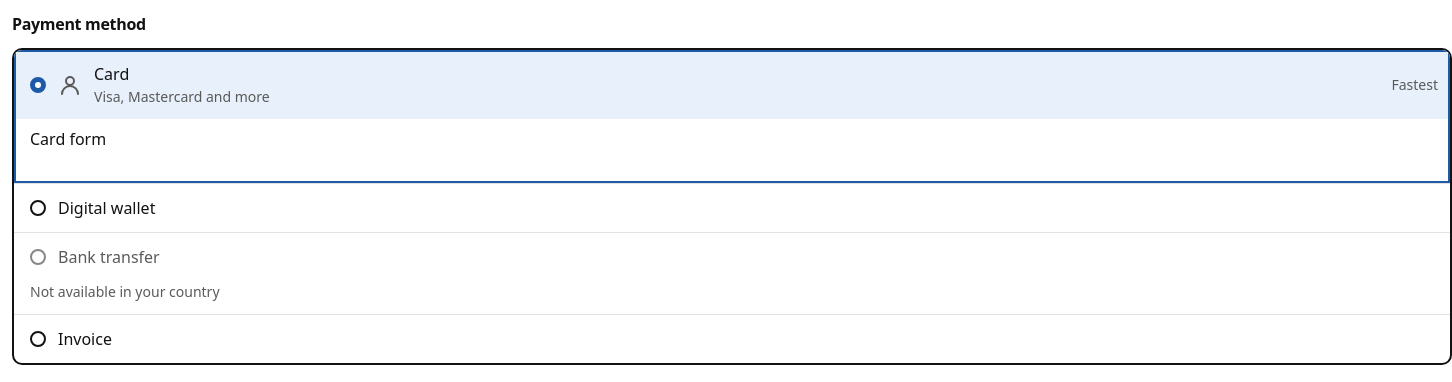
Scenario: PaymentMethodSelector › AC-4: children render only for the selected method and are linked by aria-controls
The width and height of the screenshot is (1452, 382).
Expected: the text "Card form" is shown, 30,128 -> 106,150
Click the text "Digital wallet": coordinates (107, 208) 58,197 -> 155,219
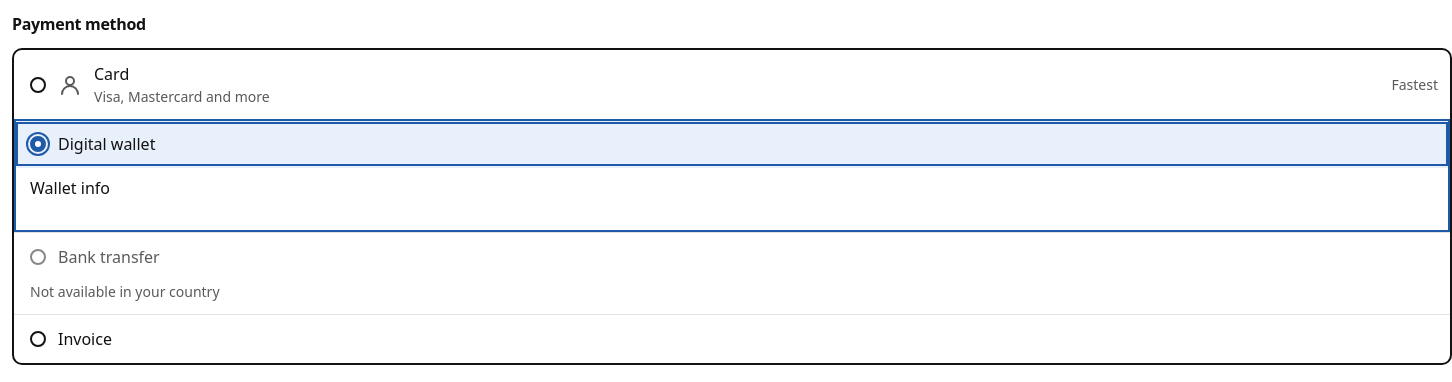
Result: the text "Card form" is gone
Result: the text "Wallet info" is shown at 30,177 -> 110,199
Click the text "Invoice": coordinates (85, 339) 58,328 -> 112,350
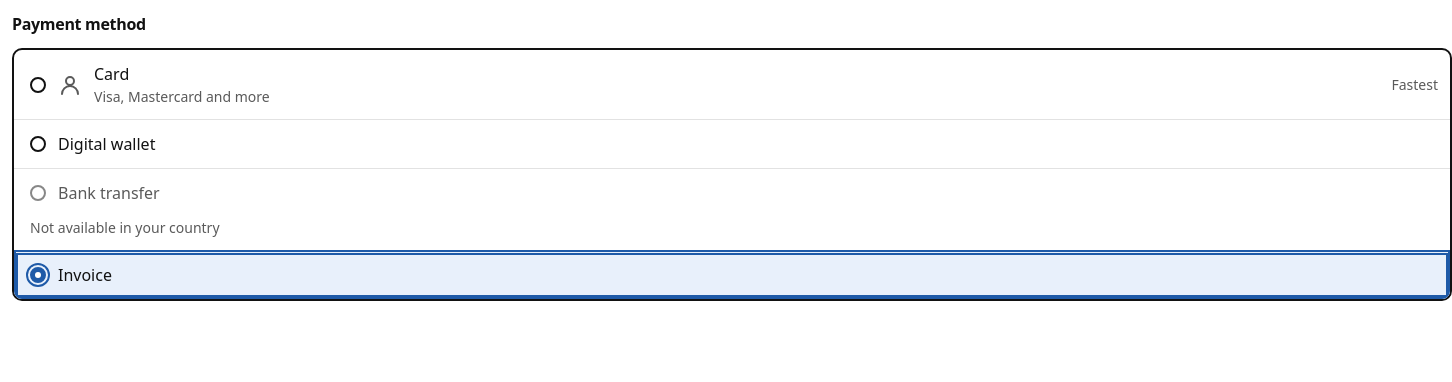
Result: the text "Wallet info" is gone
